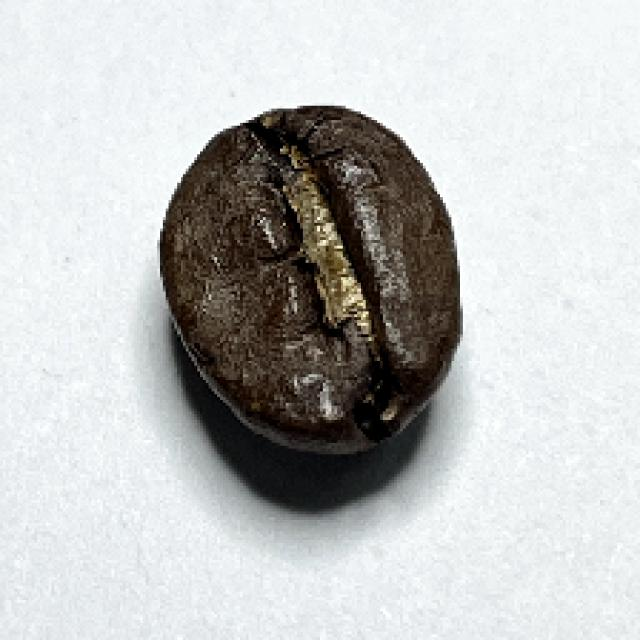bean: (155, 101, 465, 454)
